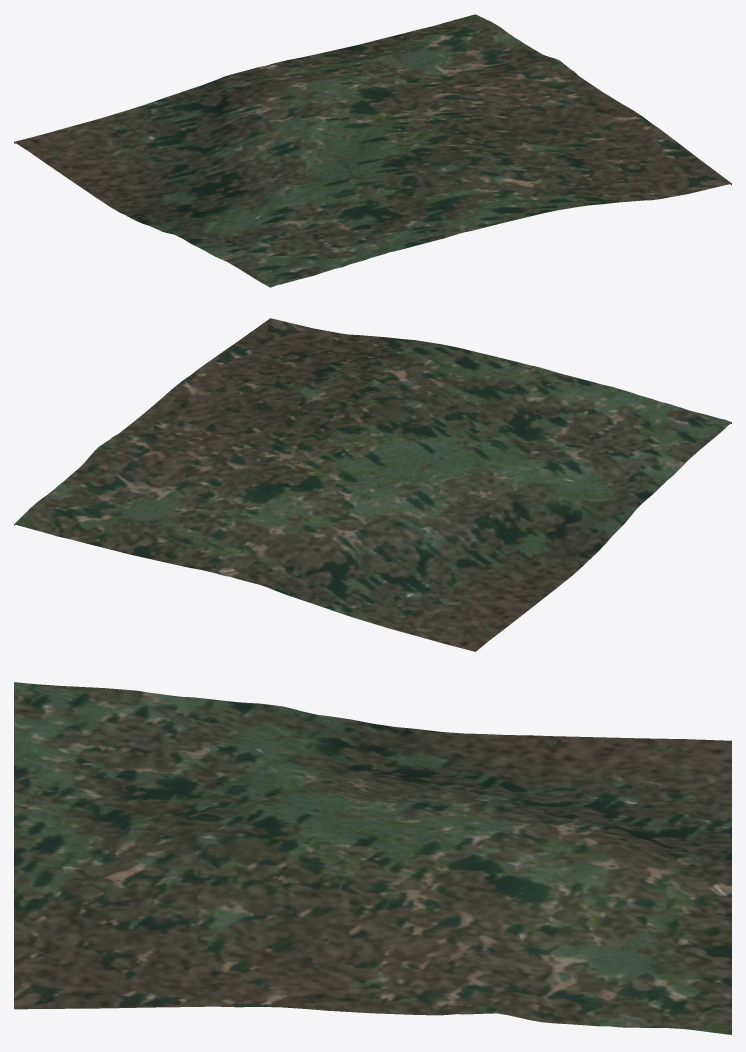
3 views of the same model, one above another, from view 1: azimuth 30°, elevation 25°; view 2: azimuth 150°, elevation 25°; view 3: azimuth 270°, elevation 25° (orthographic). The views are drawn at different scales.
Bounding box in the file's own units: 250 × 27.17 × 241.
1 material, 1 textured.
